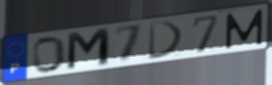7: (113, 24, 144, 65), (191, 13, 221, 54)
D: (147, 20, 187, 62)
M: (65, 26, 113, 73), (224, 7, 265, 51)
O: (32, 35, 68, 75)
